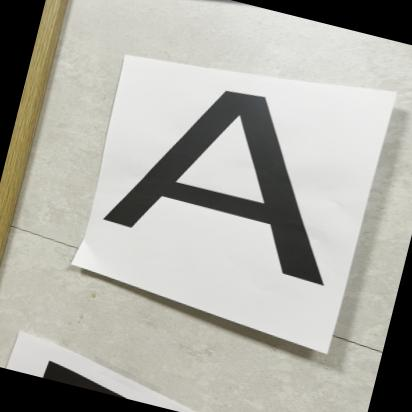seat: (83, 57, 365, 298)
